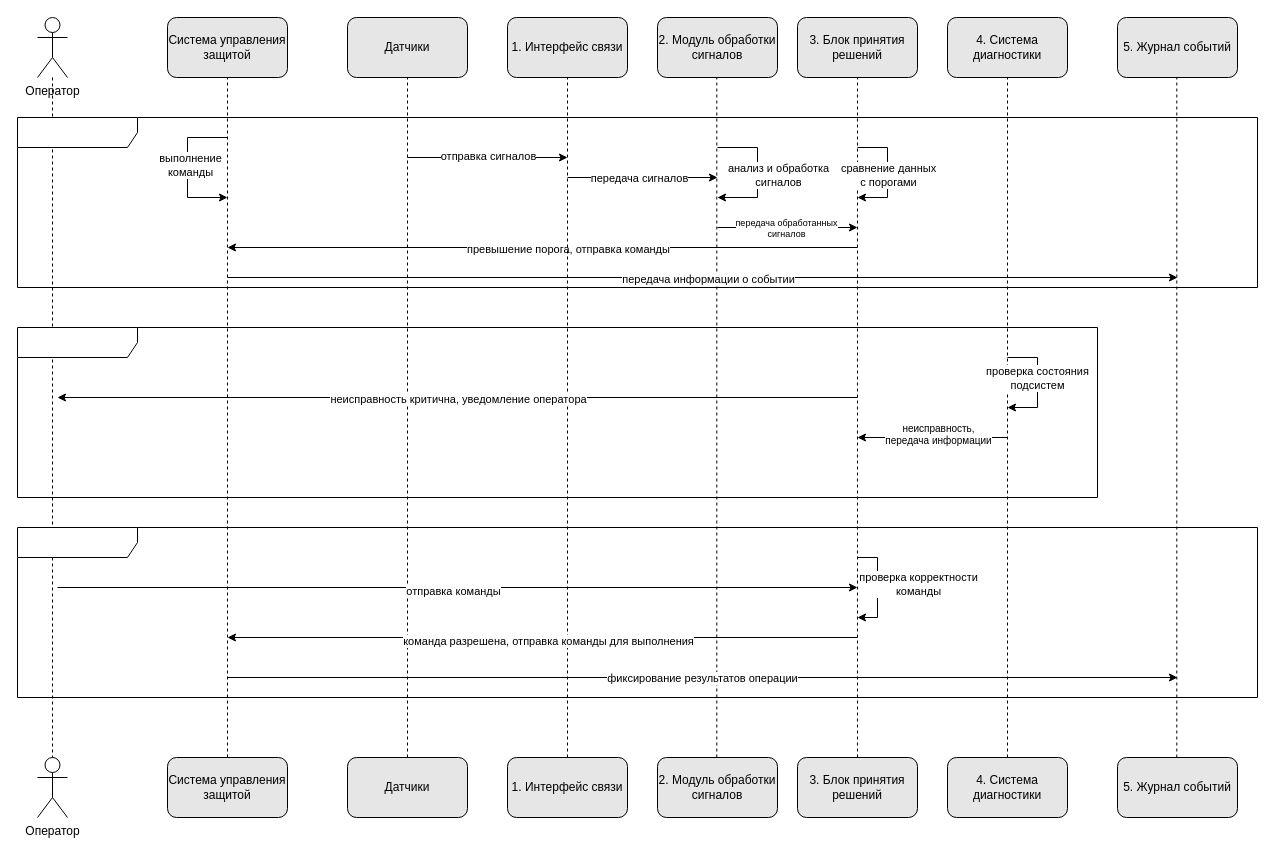
This 1275x856 diagram has some shape labels left out. Each missing label, with the centre of its shape:
Основной рабочий процесс: (x=637, y=202)
Ручное управление: (x=637, y=612)
Самодиагностика и статус: (x=557, y=412)
